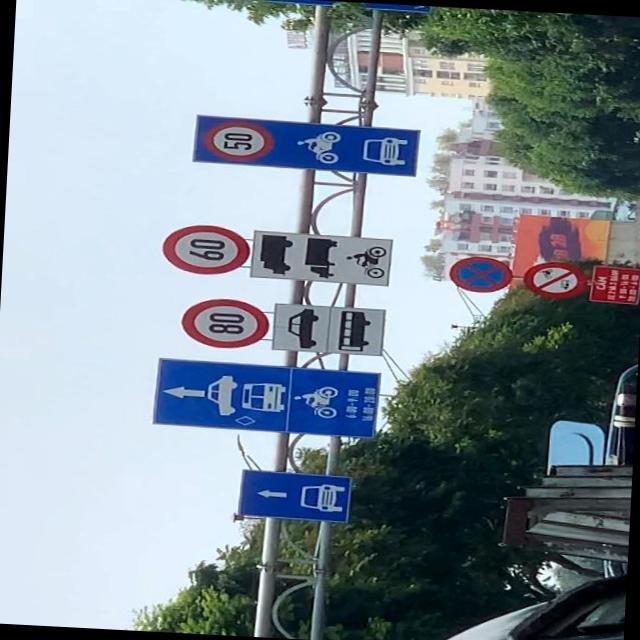P-104: (523, 261, 588, 300)
P-127: (179, 296, 270, 350), (160, 222, 250, 276)
P-130: (445, 253, 513, 295)
